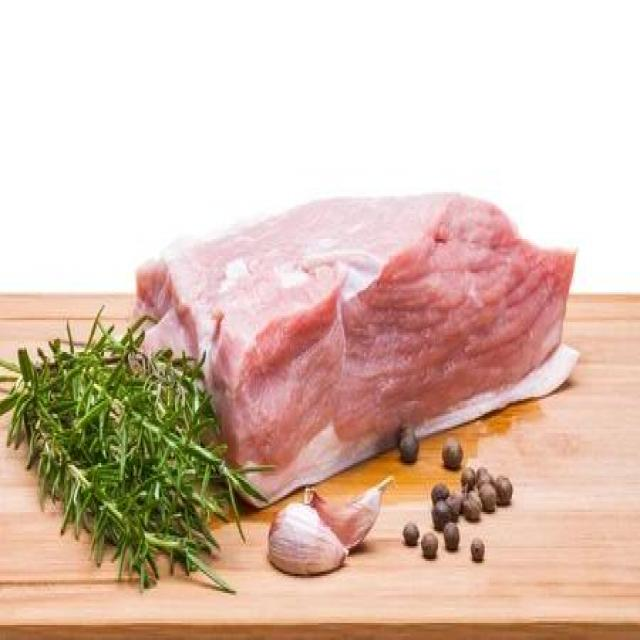pork: (179, 193, 572, 389)
